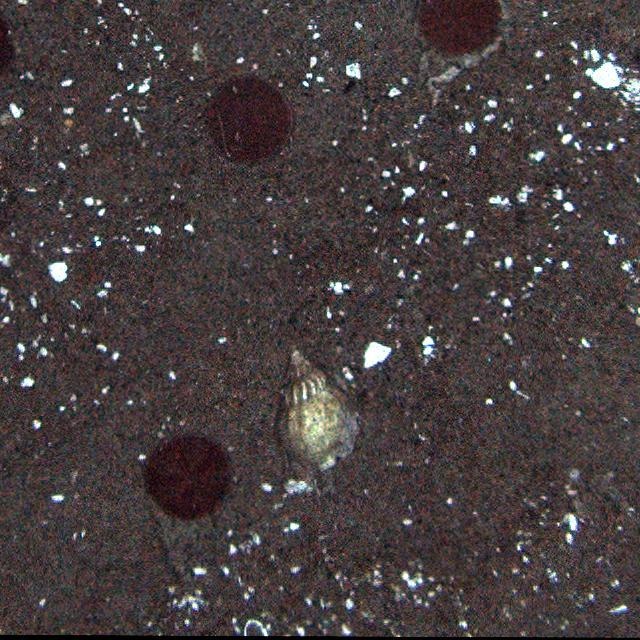whelk: (277, 344, 359, 470)
